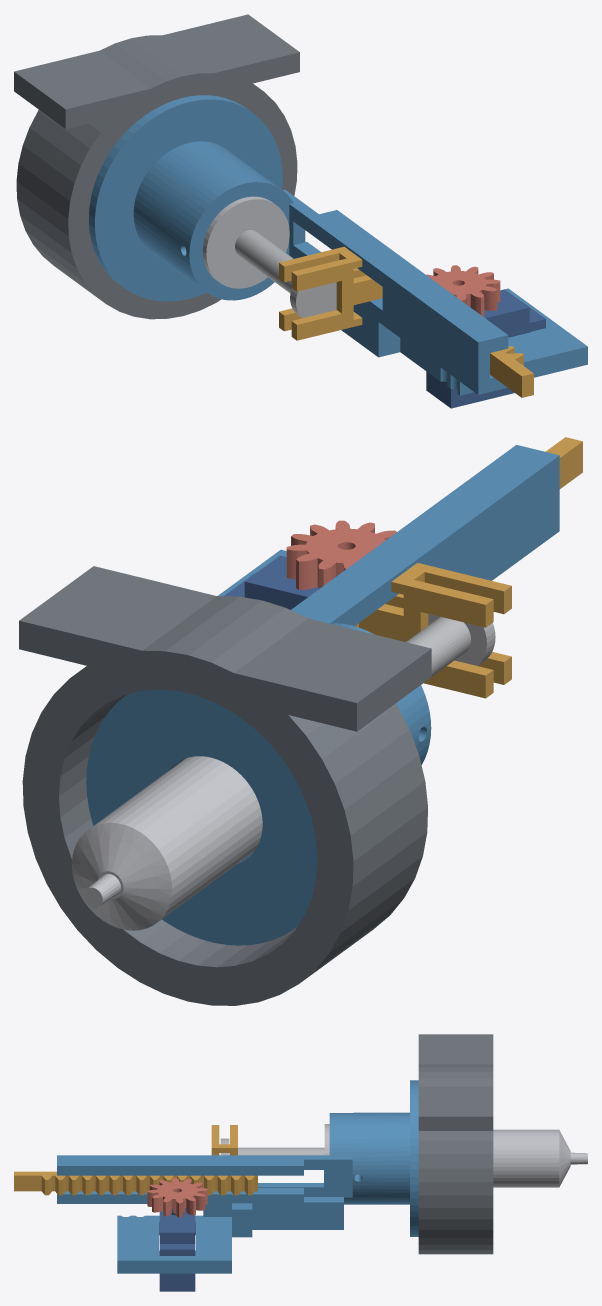
File: assembly.glb
3 views of the same model, one above another, from view 1: azimuth 30°, elevation 25°; view 2: azimuth 150°, elevation 25°; view 3: azimuth 270°, elevation 25° (orthographic). The views are drawn at different scales.
Parts seen in each view (by area): view 1: mount_body, clamp_proxy, rack, syringe, plunger, servo, pinion; view 2: clamp_proxy, mount_body, syringe, rack, pinion, plunger, servo; view 3: mount_body, clamp_proxy, syringe, rack, servo, pinion, plunger.
Boxes of the visible parts, x1=… form: mount_body: x1=89, y1=95, x2=587, y2=395; clamp_proxy: x1=14, y1=14, x2=299, y2=319; rack: x1=279, y1=246, x2=533, y2=397; syringe: x1=203, y1=196, x2=289, y2=288; plunger: x1=235, y1=230, x2=336, y2=318; servo: x1=426, y1=289, x2=545, y2=408; pinion: x1=426, y1=265, x2=500, y2=316; clamp_proxy: x1=19, y1=566, x2=431, y2=1005; mount_body: x1=86, y1=445, x2=559, y2=945; syringe: x1=72, y1=756, x2=262, y2=930; rack: x1=355, y1=437, x2=582, y2=698; pinion: x1=286, y1=520, x2=396, y2=589; plunger: x1=406, y1=614, x2=495, y2=676; servo: x1=224, y1=555, x2=318, y2=609; mount_body: x1=57, y1=1080, x2=418, y2=1273; clamp_proxy: x1=418, y1=1034, x2=493, y2=1254; syringe: x1=324, y1=1124, x2=587, y2=1187; rack: x1=14, y1=1125, x2=257, y2=1195; servo: x1=159, y1=1208, x2=195, y2=1291; pinion: x1=147, y1=1177, x2=207, y2=1217; plunger: x1=220, y1=1138, x2=324, y2=1155.
Size of the model in its own units: 90.97 by 66.6 by 200.
